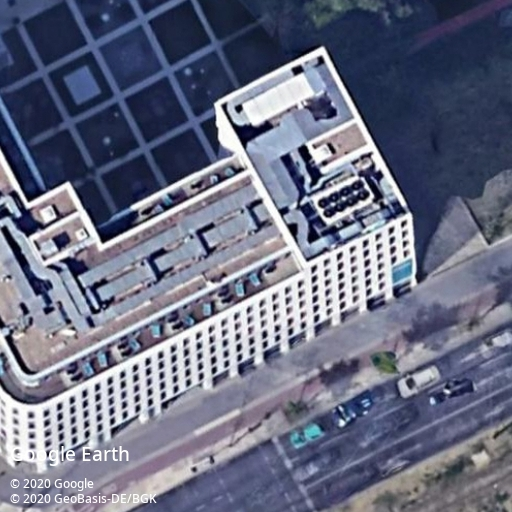Chiller: (313, 176, 375, 226)
